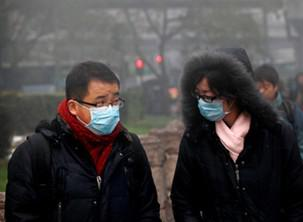NONE: (254, 79, 275, 103)
OK: (89, 92, 121, 134), (194, 86, 228, 120)
